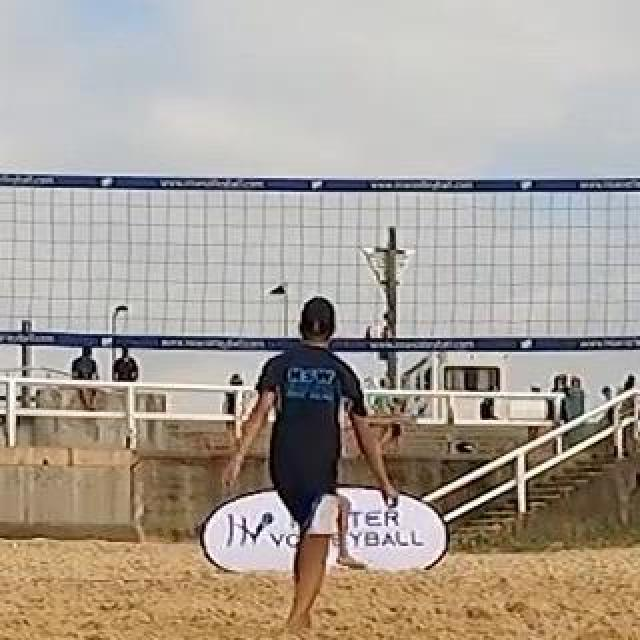volleyball: (362, 322, 394, 352)
